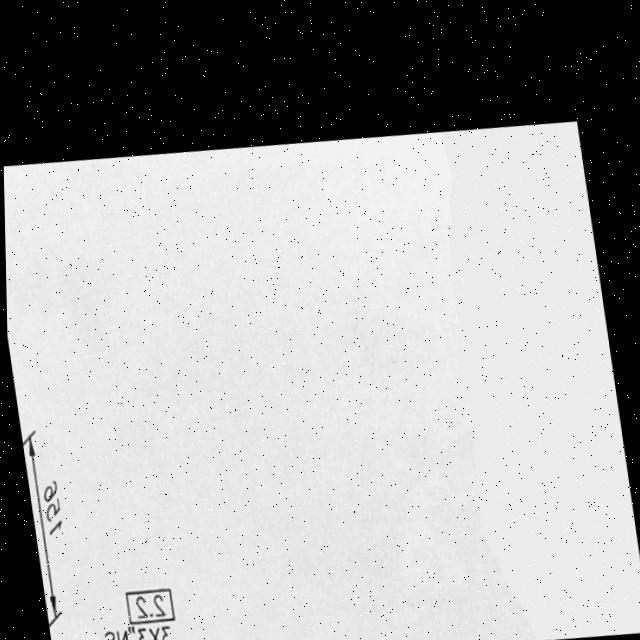Item number: (121, 582, 174, 627)
Measrement: (19, 422, 74, 621), (96, 615, 172, 640)
